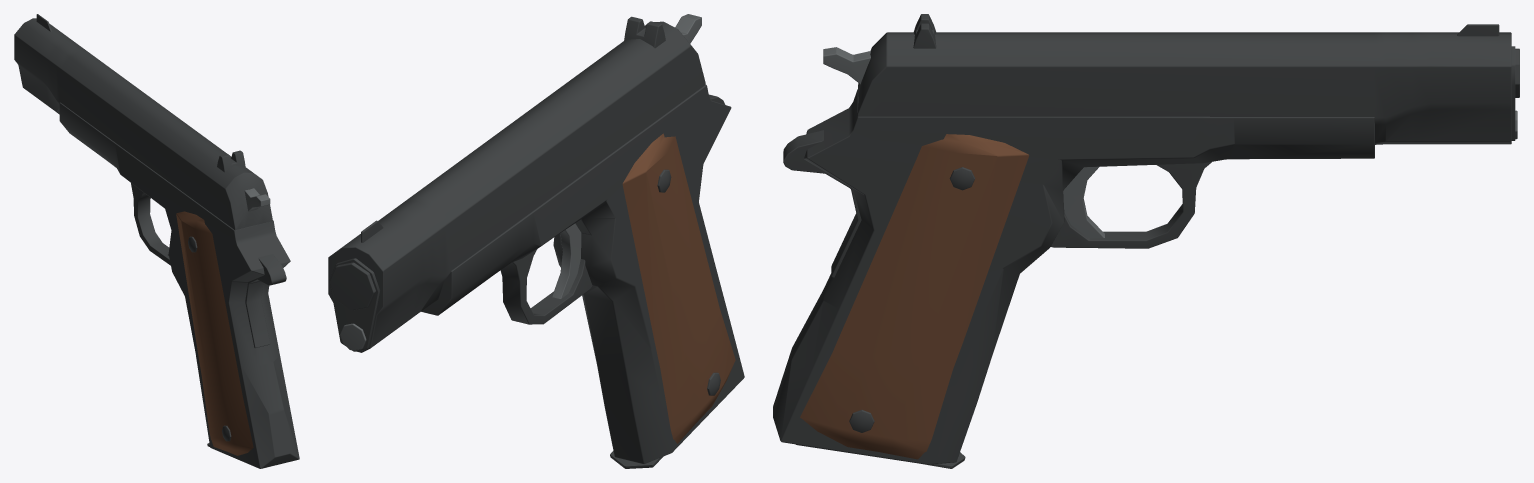
Rendered from pistol_p45.glb.
The picture shows the model from 3 angles, left to right: view 1: azimuth 30°, elevation 25°; view 2: azimuth 150°, elevation 25°; view 3: azimuth 270°, elevation 25°; orthographic projection. The views are drawn at different scales.
Parts seen in each view (by area): view 1: Cube; view 2: Cube; view 3: Cube.
Boxes of the visible parts, x1=… form: Cube: x1=14, y1=14, x2=299, y2=468; Cube: x1=328, y1=14, x2=744, y2=468; Cube: x1=773, y1=14, x2=1519, y2=468.
Size of the model in its own units: 0.1322 by 0.6486 by 0.9998.
